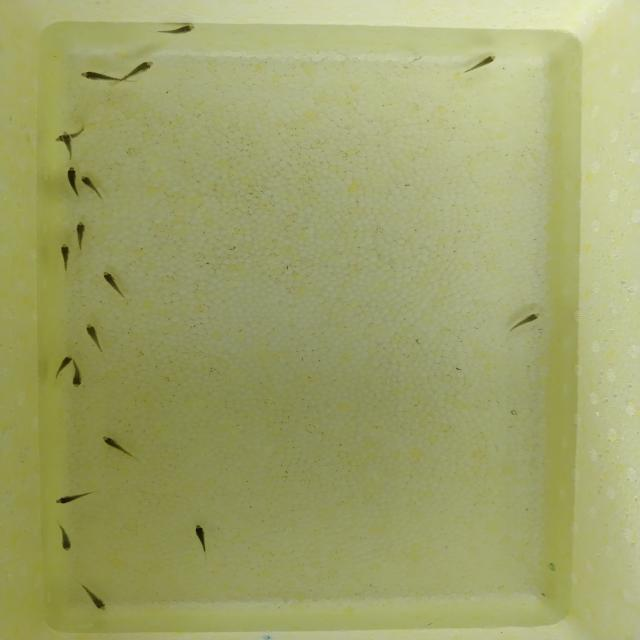fingerling: (73, 578, 110, 614), (151, 20, 205, 40), (98, 433, 138, 460), (504, 310, 545, 336), (458, 53, 502, 77), (51, 488, 100, 508), (80, 322, 109, 355), (191, 521, 212, 562), (53, 520, 79, 553), (124, 57, 158, 81), (99, 270, 127, 299), (80, 173, 106, 202), (75, 68, 117, 83), (60, 130, 82, 158), (62, 164, 78, 200), (74, 219, 88, 251), (56, 354, 75, 373), (59, 242, 71, 272), (70, 374, 84, 388)
